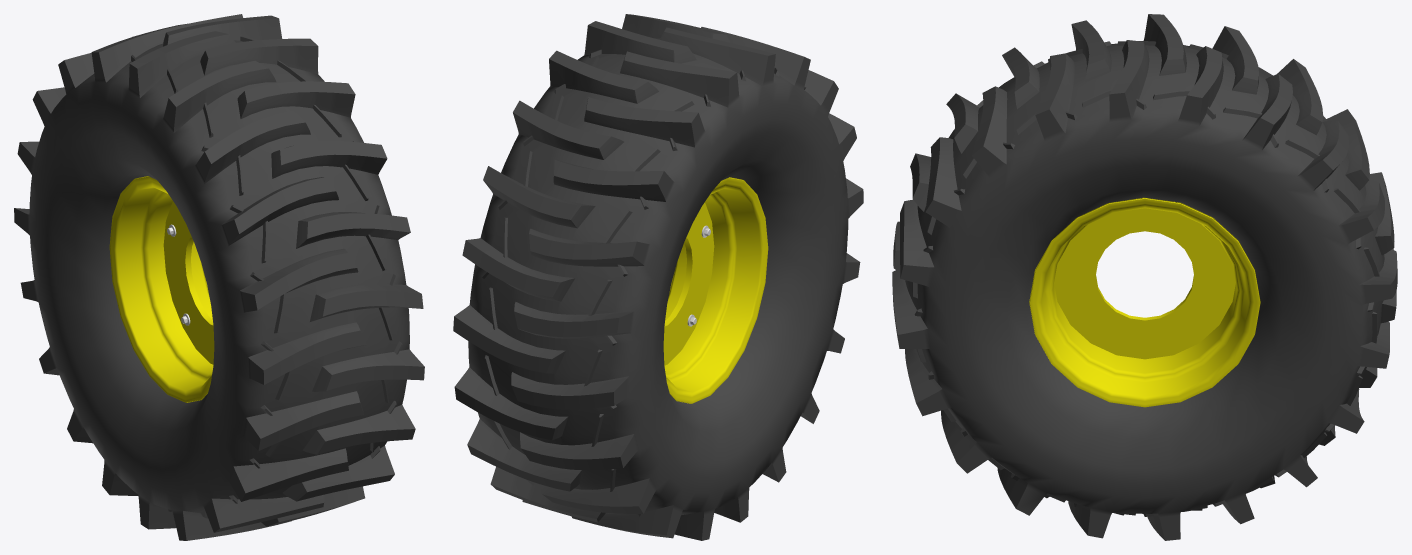
Rendered from JCB3CXTire.fbx.
The picture shows the model from 3 angles, left to right: view 1: azimuth 30°, elevation 25°; view 2: azimuth 150°, elevation 25°; view 3: azimuth 270°, elevation 25°; orthographic projection.
Parts seen in each view (by area): view 1: Wheel; view 2: Wheel; view 3: Wheel.
Part boxes in pixels (left/top/right/bottom): Wheel: left=14, top=14, right=424, bottom=540; Wheel: left=453, top=14, right=863, bottom=540; Wheel: left=892, top=14, right=1397, bottom=540.
Size of the model in its own units: 3.16 by 8.21 by 8.21.
